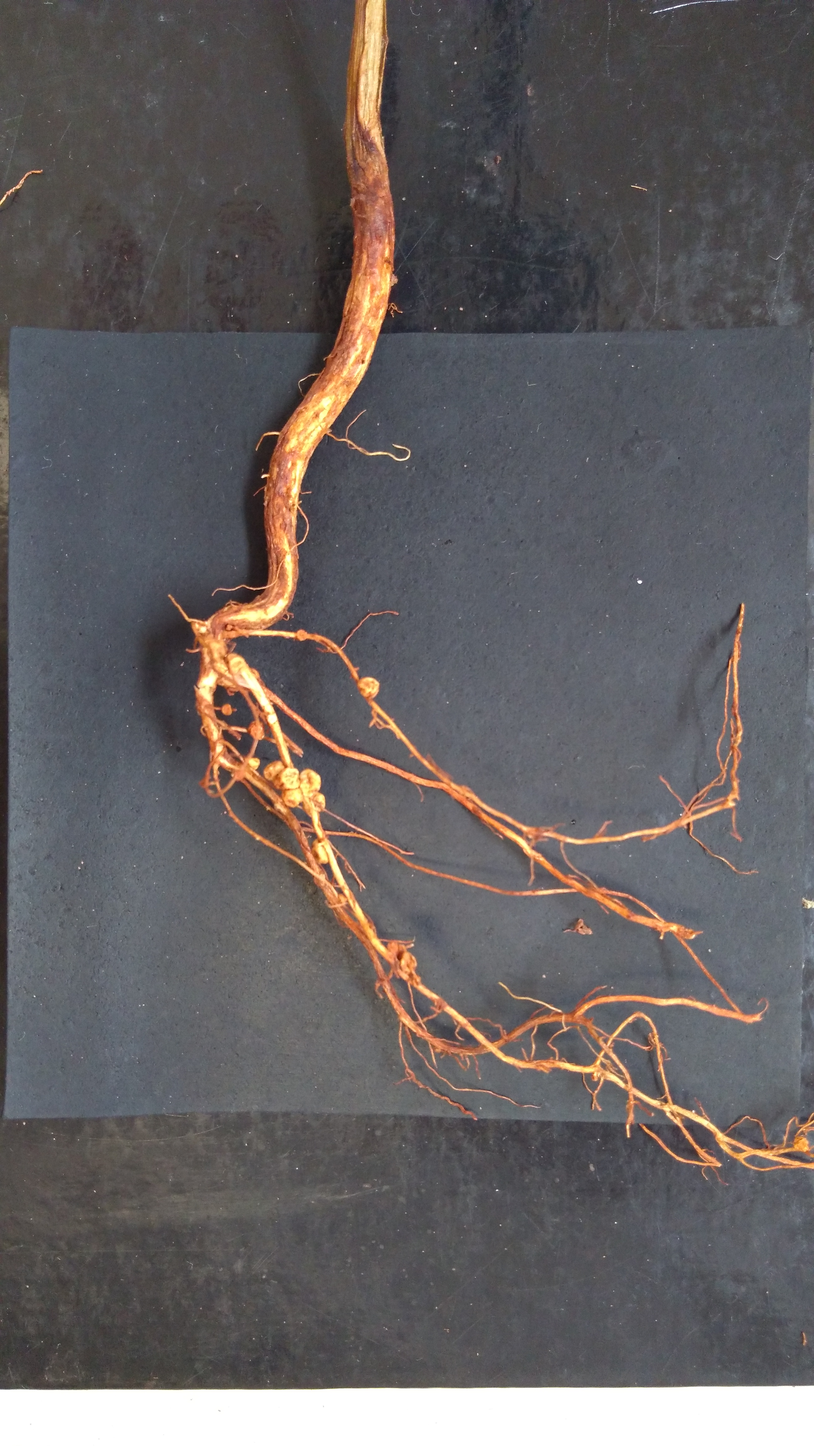nodule: (299, 767, 323, 799), (308, 837, 333, 866), (356, 675, 382, 701), (272, 767, 300, 791), (262, 759, 286, 782), (280, 787, 304, 809), (398, 950, 419, 975), (383, 938, 408, 959), (224, 653, 246, 673), (247, 719, 266, 742), (308, 790, 326, 813), (792, 1134, 811, 1154), (248, 756, 261, 771), (221, 703, 233, 718), (296, 627, 307, 642)
